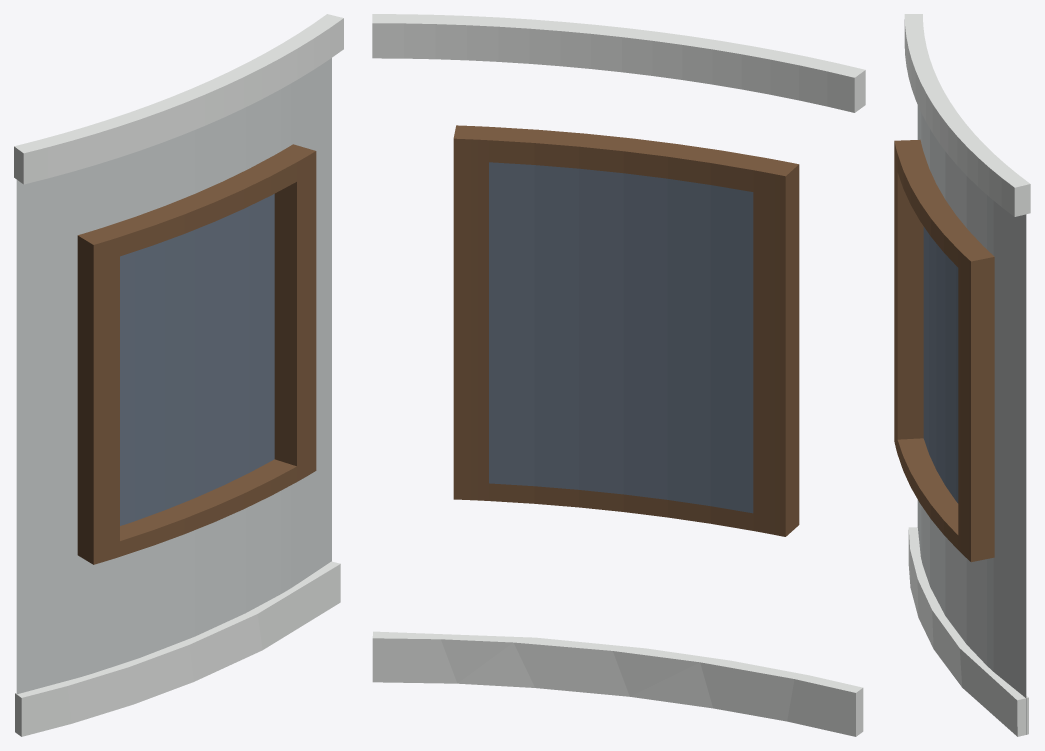
The model's file is ArcWindow_R4_A30.glb.
The picture shows the model from 3 angles, left to right: view 1: azimuth 30°, elevation 25°; view 2: azimuth 150°, elevation 25°; view 3: azimuth 270°, elevation 25°; orthographic projection. The views are drawn at different scales.
Visible parts, largest first — view 1: PBK_Modern_ArcWindow_R4_A30_Exterior_Surface.001, PBK_Arc_PBK_glass.002, PBK_Continuous_Frame_Modern_Window.003, PBK_Arc_PBK_base_trim.007, PBK_floor_band.048; view 2: PBK_Arc_PBK_glass.002, PBK_Continuous_Frame_Modern_Window.003, PBK_Arc_PBK_base_trim.007, PBK_floor_band.048; view 3: PBK_Continuous_Frame_Modern_Window.003, PBK_Modern_ArcWindow_R4_A30_Exterior_Surface.001, PBK_Arc_PBK_glass.002, PBK_floor_band.048, PBK_Arc_PBK_base_trim.007.
Boxes of the visible parts, left/top/right/bottom form: PBK_Modern_ArcWindow_R4_A30_Exterior_Surface.001: left=16, top=58, right=331, bottom=694; PBK_Arc_PBK_glass.002: left=120, top=194, right=274, bottom=525; PBK_Continuous_Frame_Modern_Window.003: left=77, top=144, right=316, bottom=564; PBK_Arc_PBK_base_trim.007: left=15, top=561, right=340, bottom=736; PBK_floor_band.048: left=14, top=14, right=343, bottom=184; PBK_Arc_PBK_glass.002: left=489, top=162, right=753, bottom=513; PBK_Continuous_Frame_Modern_Window.003: left=453, top=125, right=799, bottom=536; PBK_Arc_PBK_base_trim.007: left=372, top=631, right=863, bottom=736; PBK_floor_band.048: left=372, top=14, right=865, bottom=112; PBK_Continuous_Frame_Modern_Window.003: left=894, top=139, right=994, bottom=562; PBK_Modern_ArcWindow_R4_A30_Exterior_Surface.001: left=917, top=105, right=1026, bottom=734; PBK_Arc_PBK_glass.002: left=923, top=227, right=958, bottom=503; PBK_floor_band.048: left=904, top=14, right=1030, bottom=216; PBK_Arc_PBK_base_trim.007: left=908, top=527, right=1028, bottom=736.
Bounding box in the file's own units: 2.03 × 3 × 0.6731.
